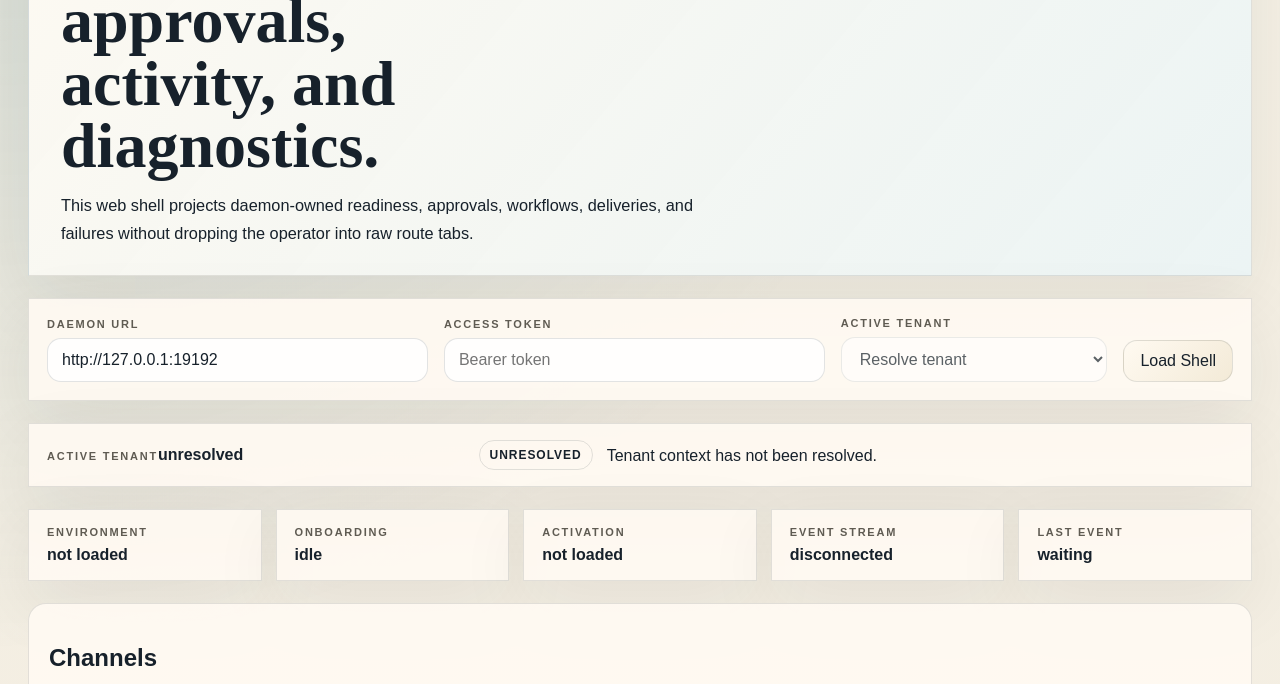
App › loads onboarding state and launches the recommended test run
(page scrolled)
Type "token" into the password field labelled "Access Token" at (634,360), box [444,338,825,382]
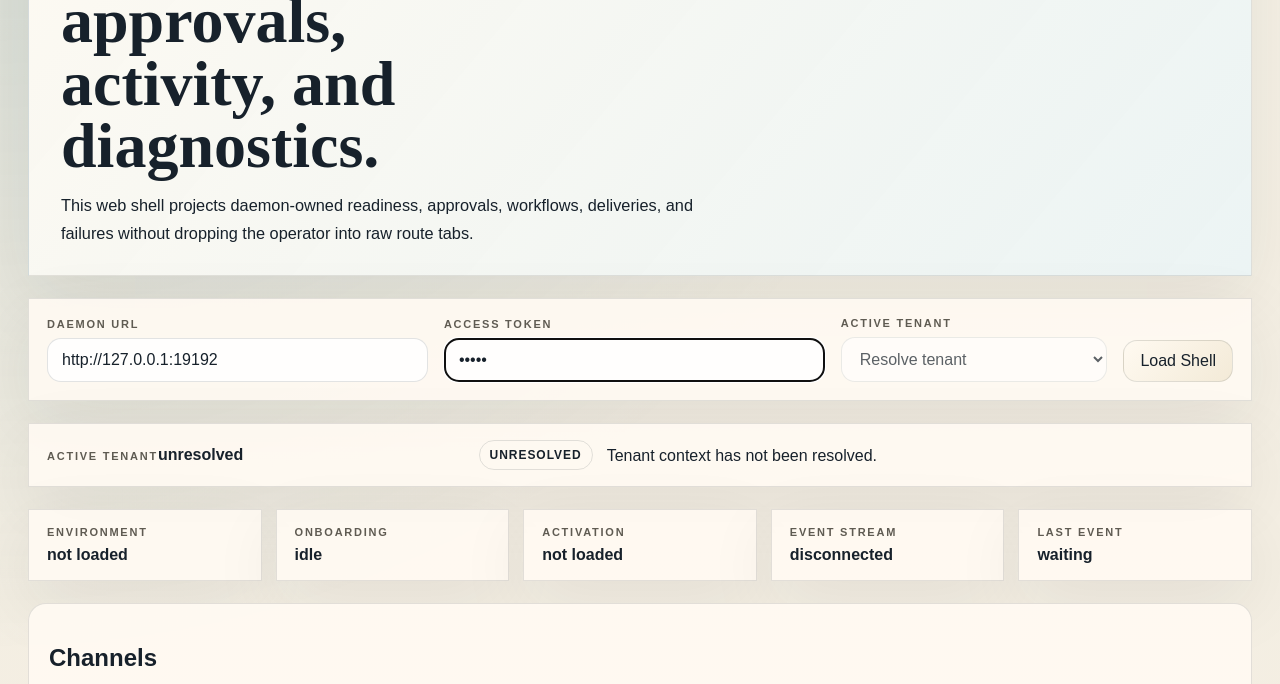
Click the button "Load Shell" at (1178,362), box [1123,340,1233,382]
(page scrolled)
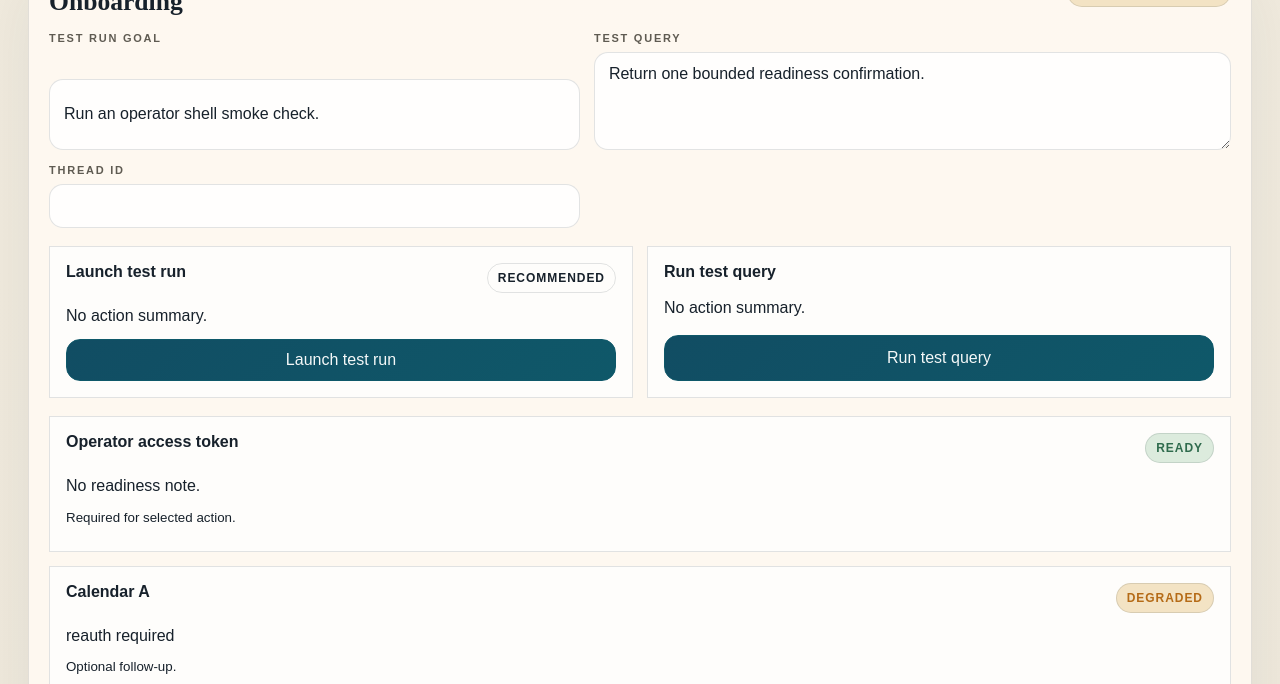
Now the text "Launch test run" is shown, box [66,263,186,281]
Click the button "Launch test run" at (341,360), box [66,339,616,381]
(page scrolled)
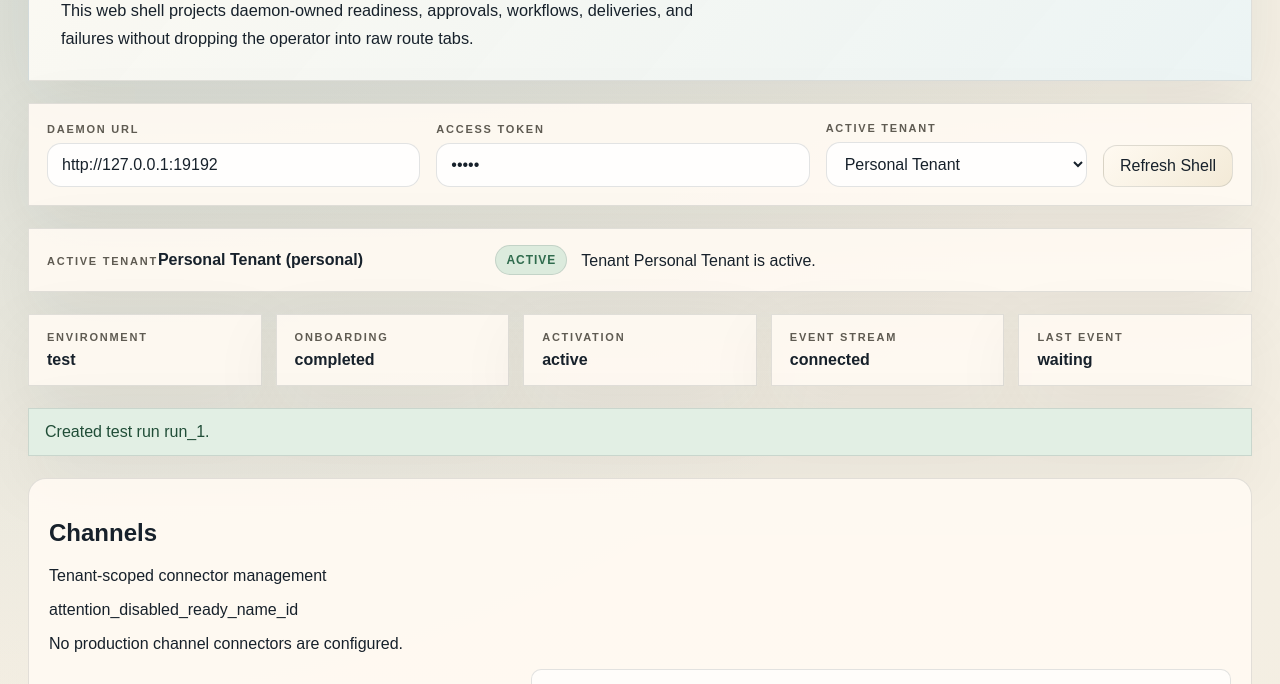
Now the text "Created test run run_1." is shown, box [28,408,1252,456]
Now the text "completed" is shown, box [295,352,375,368]
